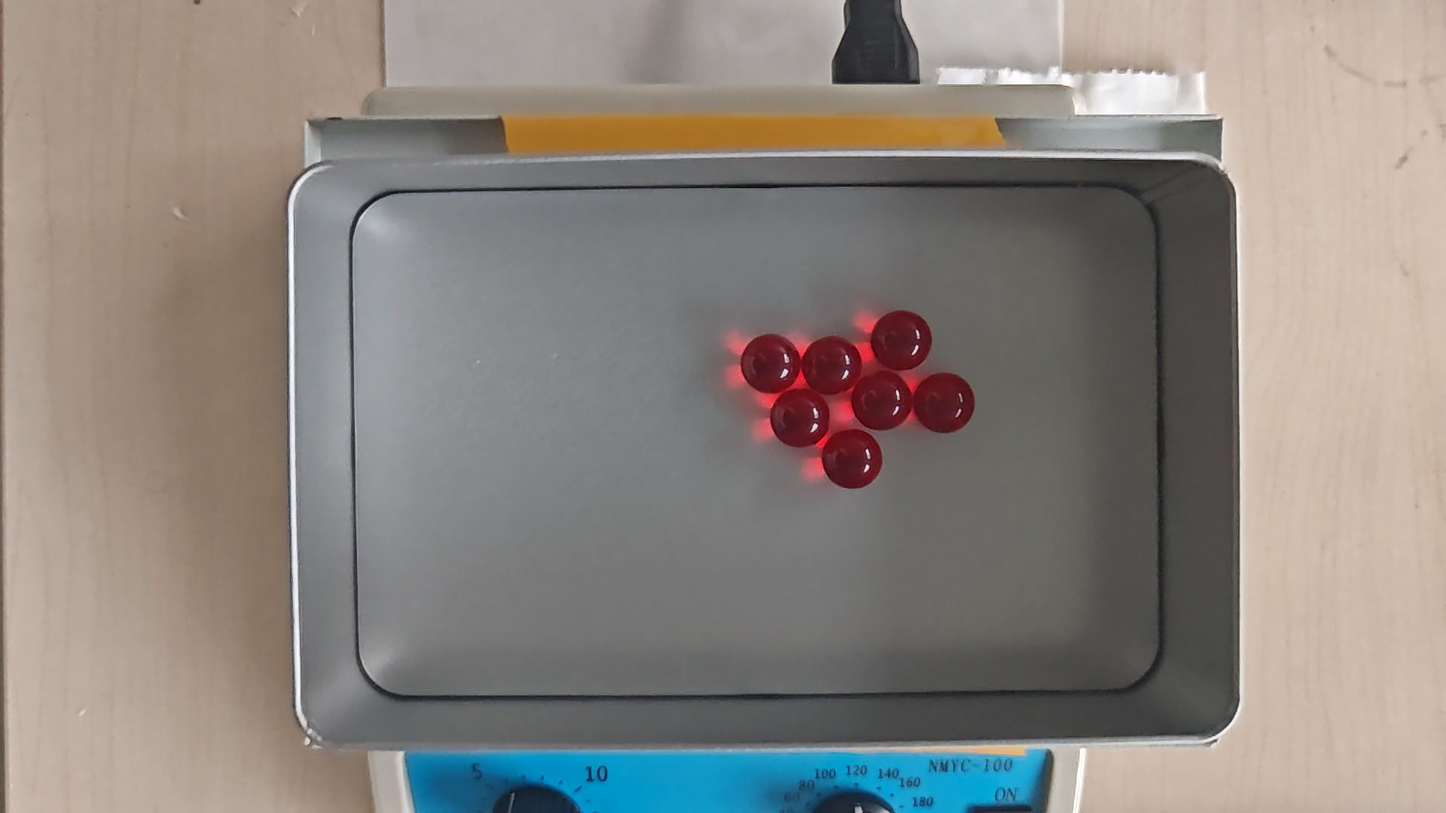ball: (914, 373, 976, 436), (871, 309, 932, 373), (801, 336, 859, 397), (853, 372, 911, 432), (825, 428, 881, 490), (771, 391, 830, 449), (742, 334, 798, 393)
container: (348, 187, 1160, 692)
